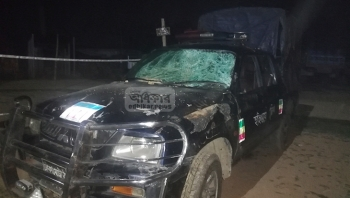pickup: (304, 48, 346, 69)
policecar: (1, 5, 301, 197)
